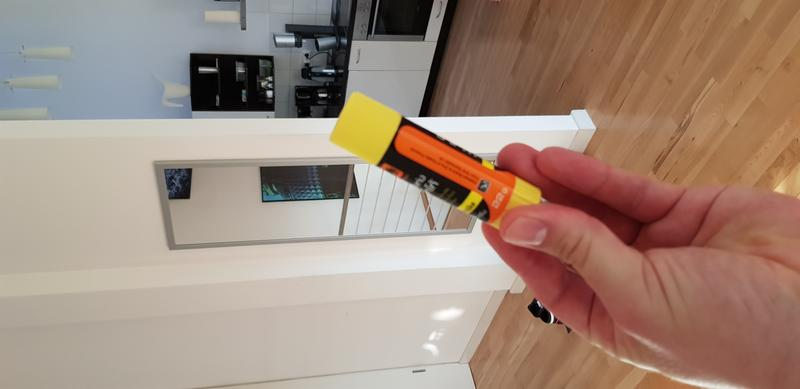Glue-Stick: (322, 89, 545, 239)
